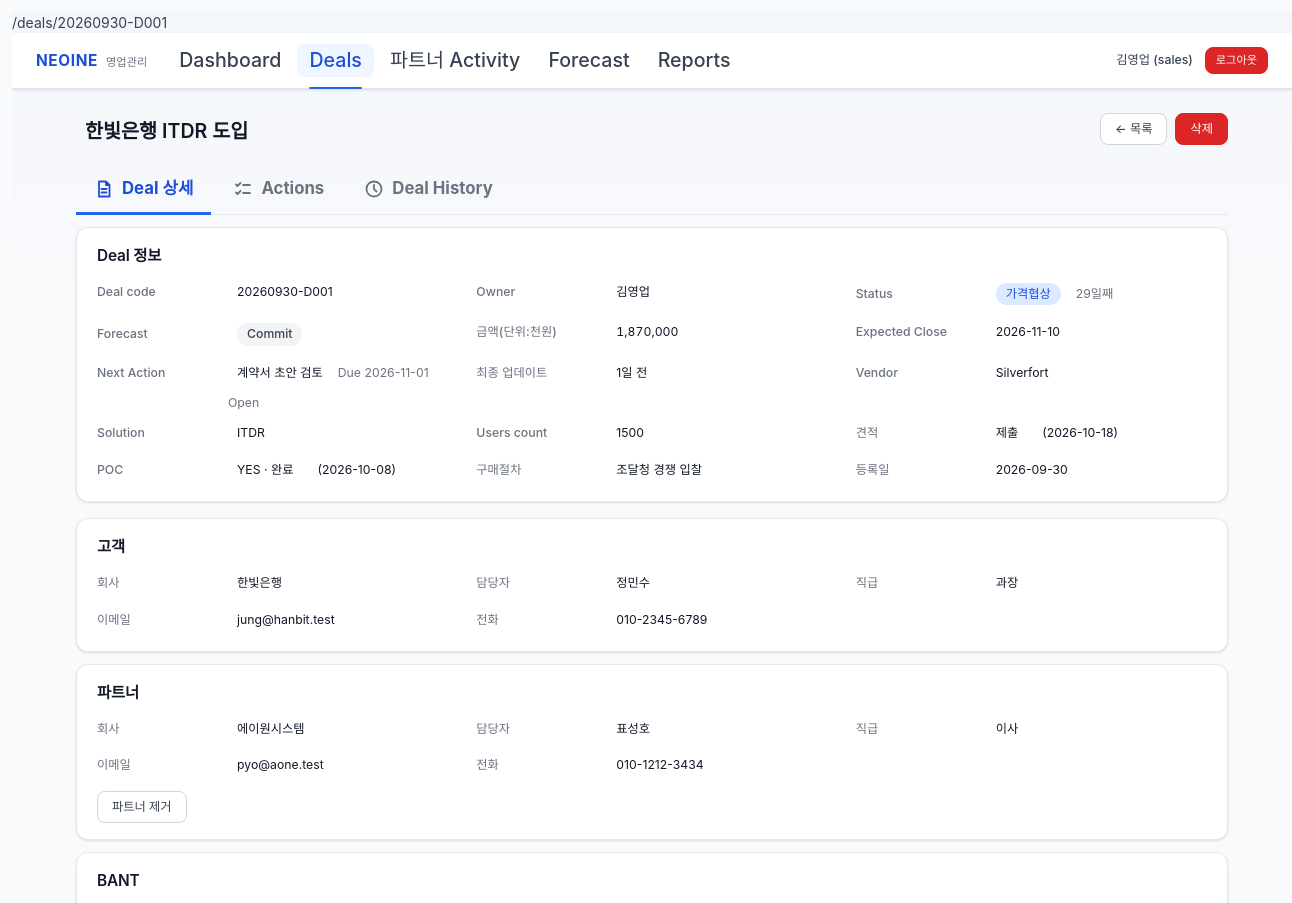
Vendor·Solution 인라인 편집 (AC-13) › offers none plus every registered vendor in the Vendor select and the current one is selected
This screenshot has width=1292, height=903.
Check: the heading "한빛은행 ITDR 도입" is shown, box [76,113,257,150]
Click the button with aria-label "Vendor 수정": point(1022, 373) [987,358,1058,388]
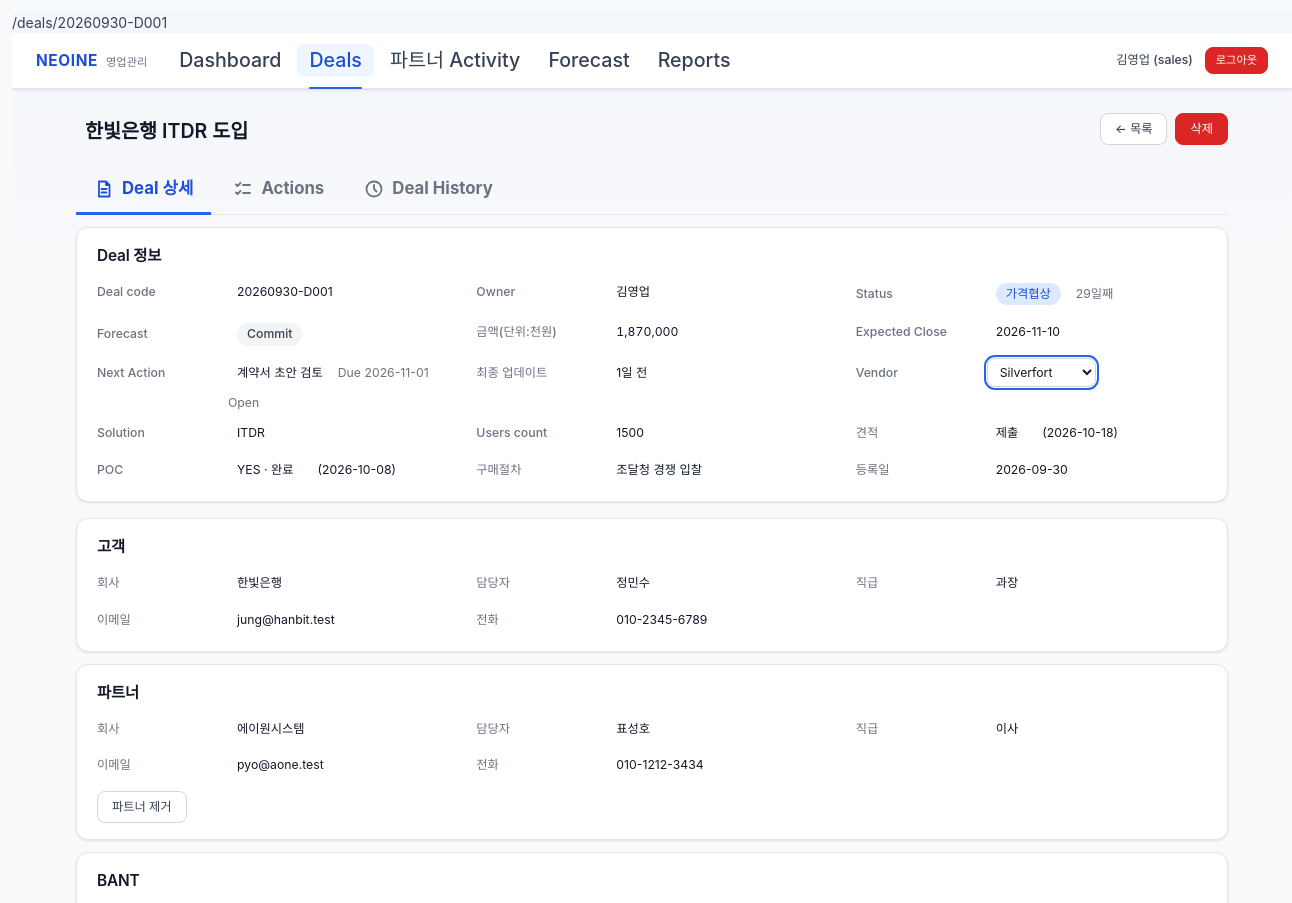
Check: the dropdown named "Vendor" shows "Silverfort", box [987,358,1096,386]
